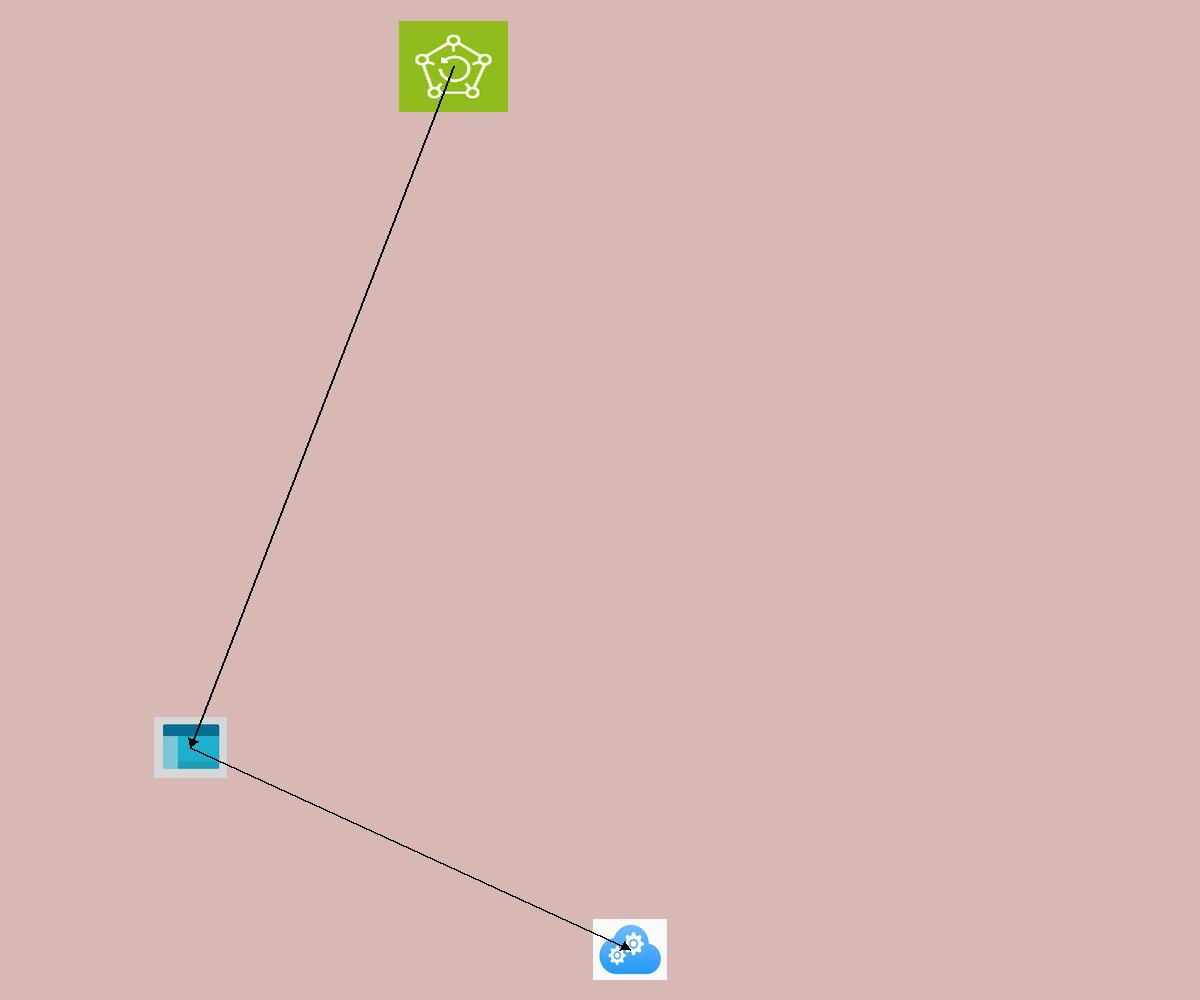AWS-Backup: (399, 21, 508, 112)
Azure_cloud_services: (593, 919, 667, 980)
Azure_management-portal: (154, 717, 227, 778)
